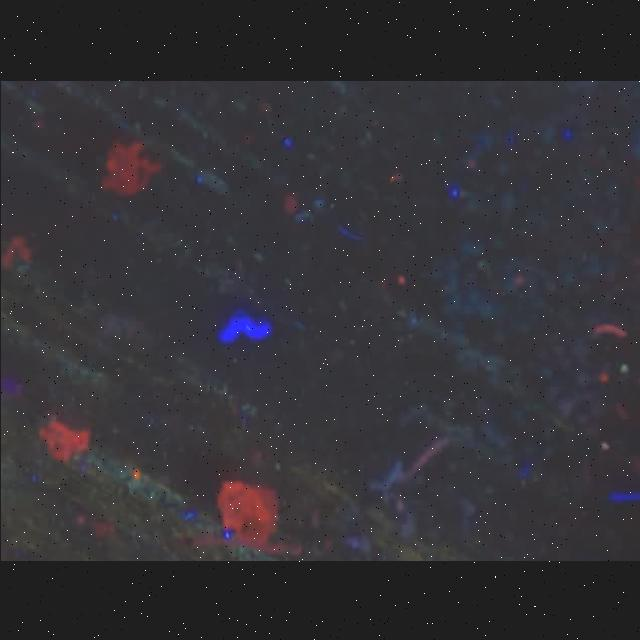Fragment: (100, 140, 160, 195), (37, 416, 89, 461)
